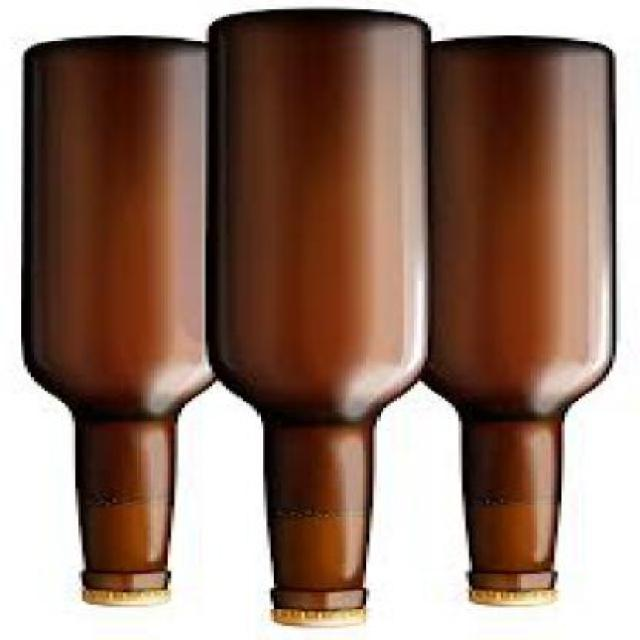GLASS: (208, 14, 434, 614), (23, 39, 226, 592), (417, 39, 620, 592)
METAL: (476, 593, 569, 612), (85, 591, 178, 609), (281, 614, 373, 631)
